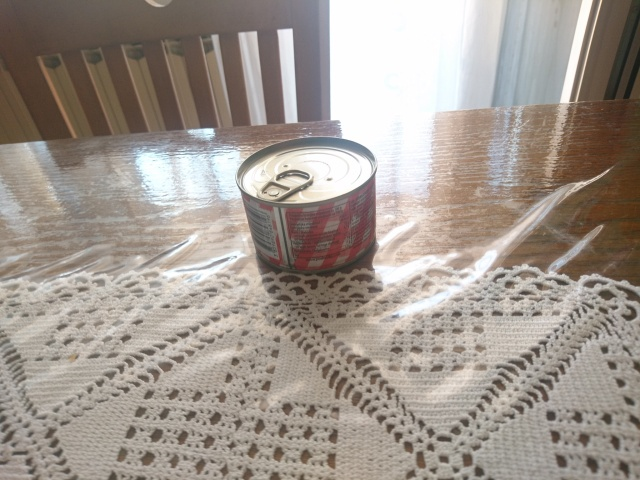Podravka Luncheon Meat 150g: (232, 133, 382, 278)
